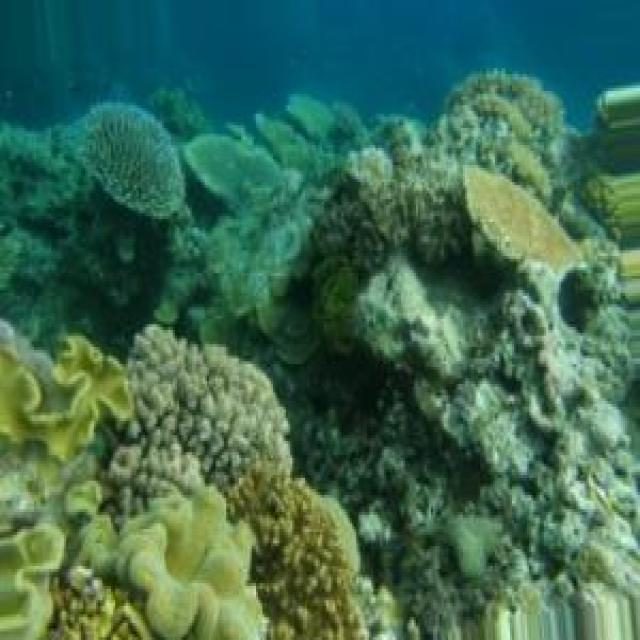bleached coral: (284, 387, 478, 592), (130, 327, 290, 469), (314, 151, 474, 267), (495, 290, 589, 464), (375, 267, 478, 387), (512, 469, 604, 583)
healthy coral: (209, 455, 361, 640), (0, 151, 164, 313), (154, 91, 316, 228), (493, 102, 617, 247), (51, 509, 154, 640), (467, 176, 582, 273), (201, 222, 271, 321)
